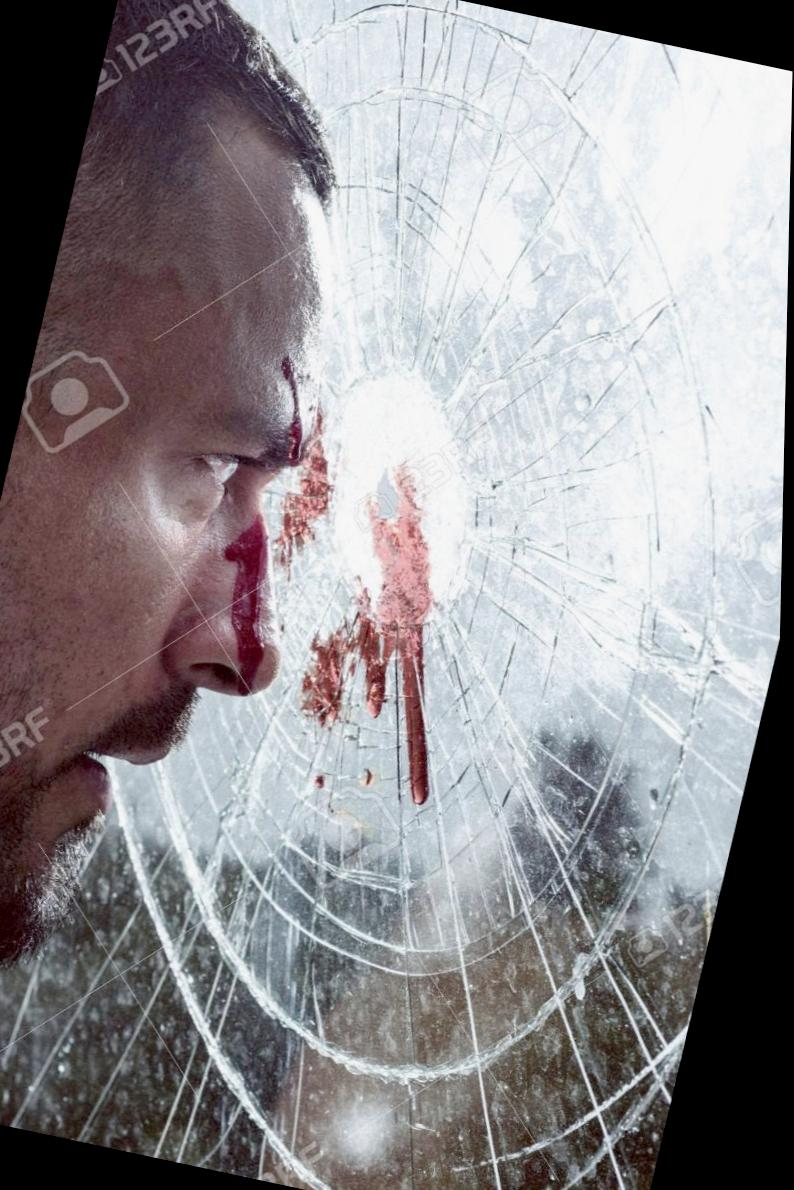Fire: (304, 462, 437, 804), (227, 514, 272, 694), (281, 399, 336, 543)
